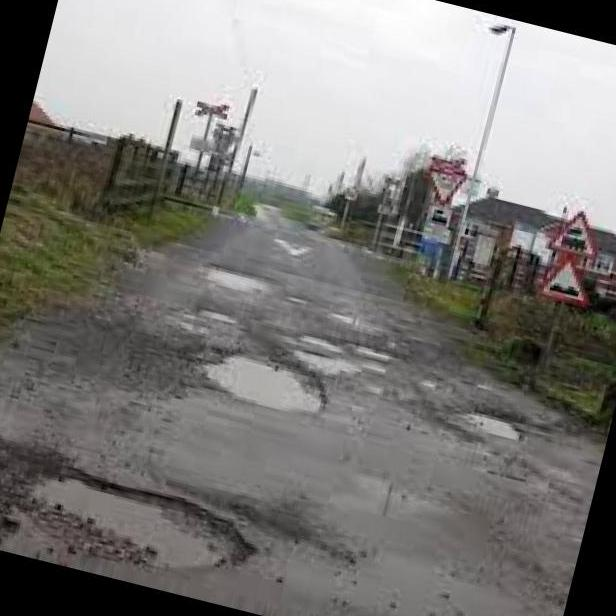pothole: (0, 454, 265, 598), (187, 335, 324, 427), (446, 403, 531, 452), (193, 301, 248, 337), (341, 340, 399, 366), (298, 332, 348, 362)
